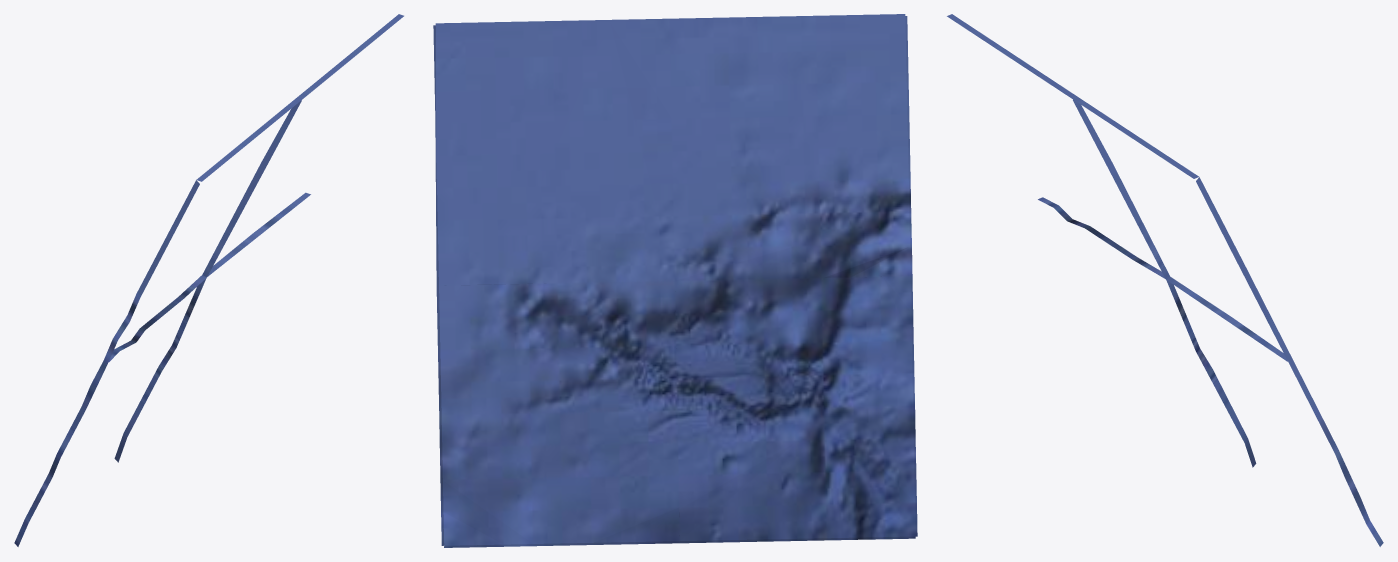
3 views of the same model, side by side, from view 1: azimuth 30°, elevation 25°; view 2: azimuth 150°, elevation 25°; view 3: azimuth 270°, elevation 25° (orthographic). The views are drawn at different scales.
Size of the model in its own units: 77885 by 71905 by 67512.
1 material, 1 textured.
